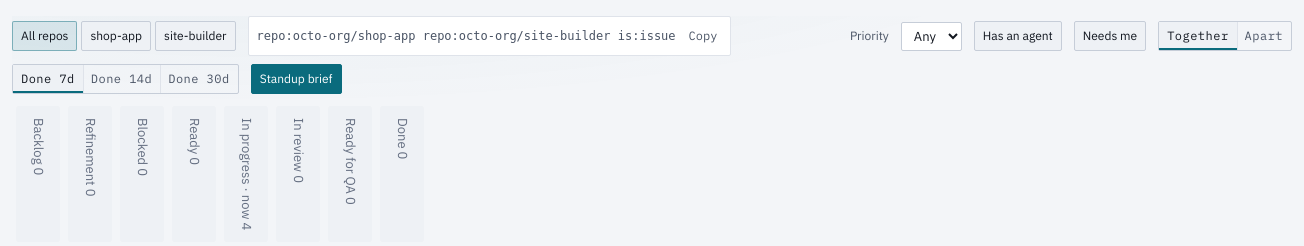
Test: lanes › a blocked clipboard gets the fallback toast
(page scrolled)
Expected: the element showing "Backlog 0" is shown, [16,106,60,242]
What coordinates should you click on to do the following:
click the button titled "Copy the GitHub query"
I would click on:
 (703, 36)
Its box is [680,21,726,51].
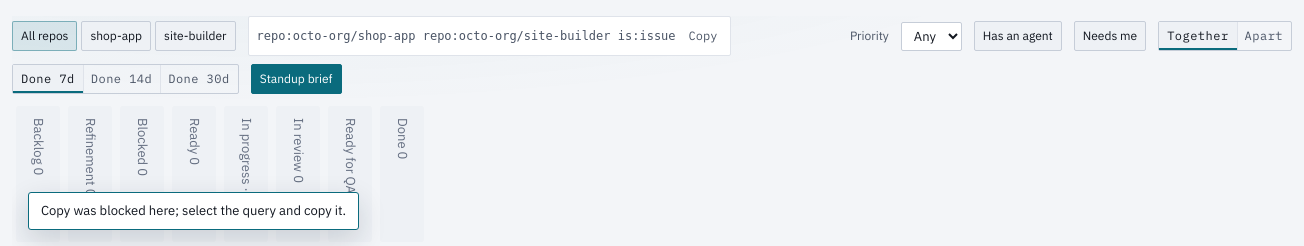
Now the message reads "Copy was blocked here; select the query and copy it.", box [41,202,346,219]
